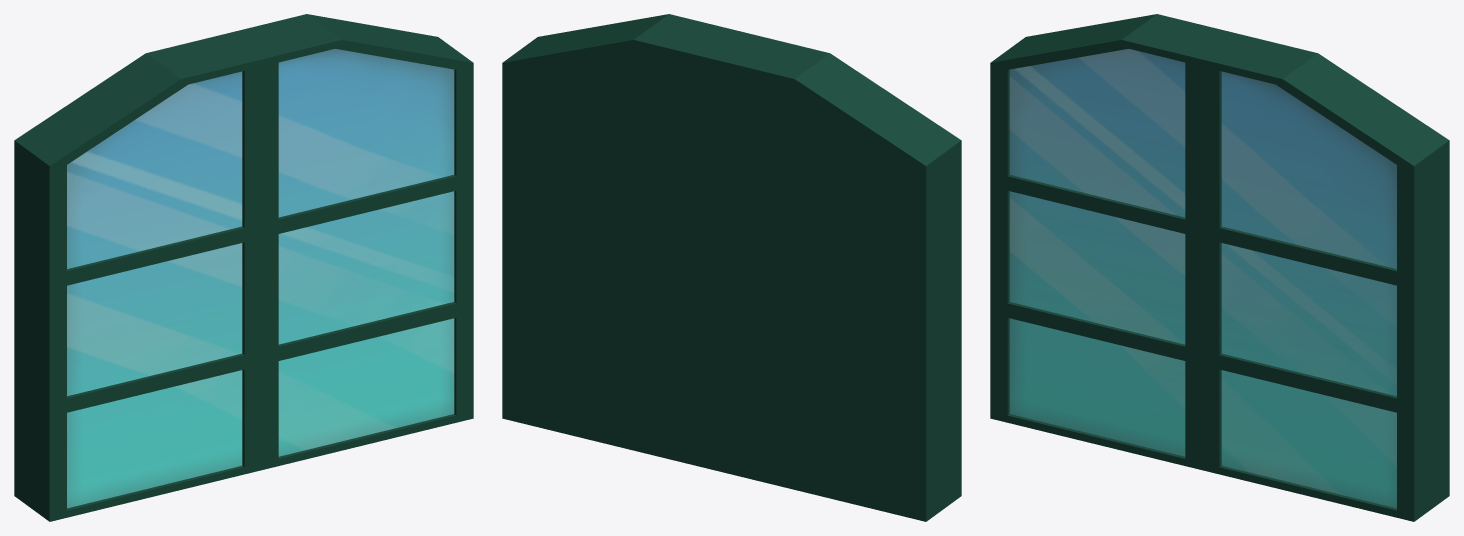
Rendered from Ventana1.fbx.
The picture shows the model from 3 angles, left to right: view 1: azimuth 30°, elevation 25°; view 2: azimuth 150°, elevation 25°; view 3: azimuth 330°, elevation 25°; orthographic projection.
Parts seen in each view (by area): view 1: ventana01; view 2: ventana01; view 3: ventana01.
Part boxes in pixels (x1=…): ventana01: x1=14, y1=14, x2=473, y2=521; ventana01: x1=502, y1=14, x2=961, y2=521; ventana01: x1=990, y1=14, x2=1449, y2=521.
Bounding box in the file's own units: 2 × 1.85 × 0.2891.
